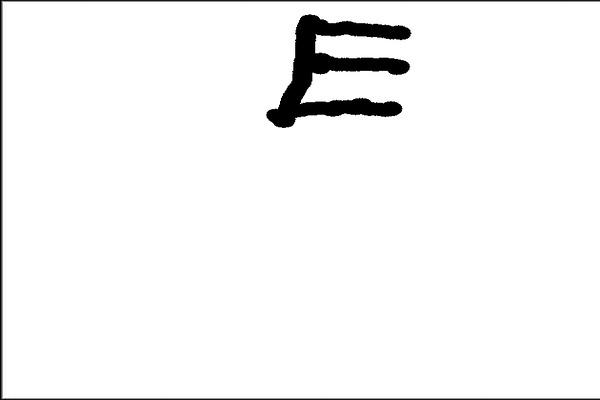E: (262, 9, 414, 131)
